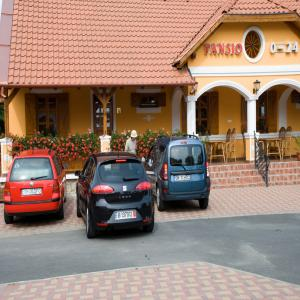Vehicle-registration-plate: (117, 210, 138, 221), (23, 188, 43, 197), (175, 175, 192, 183)
